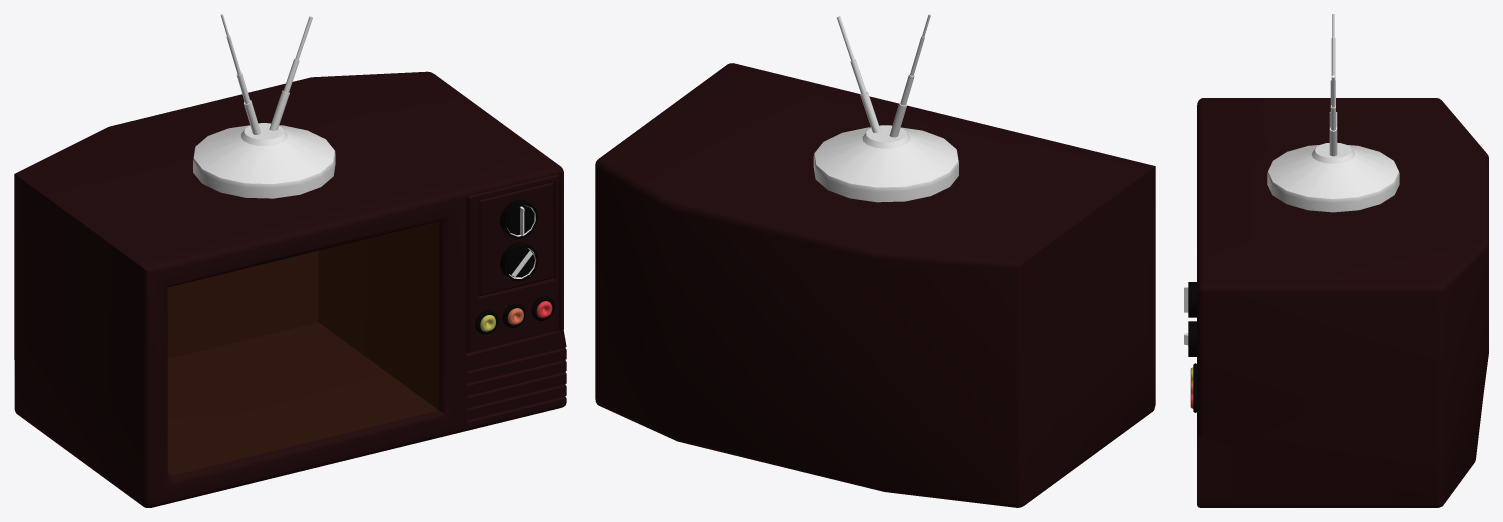
The picture shows the model from 3 angles, left to right: view 1: azimuth 30°, elevation 25°; view 2: azimuth 150°, elevation 25°; view 3: azimuth 270°, elevation 25°; orthographic projection. The views are drawn at different scales.
Visible parts, largest first — view 1: TV; view 2: TV; view 3: TV.
Part boxes in pixels (box(x1,y1,x2,y2)): TV: box(14, 14, 566, 507); TV: box(595, 14, 1155, 507); TV: box(1184, 14, 1488, 507).
Bounding box in the file's own units: 0.9076 × 0.8379 × 0.6177.
